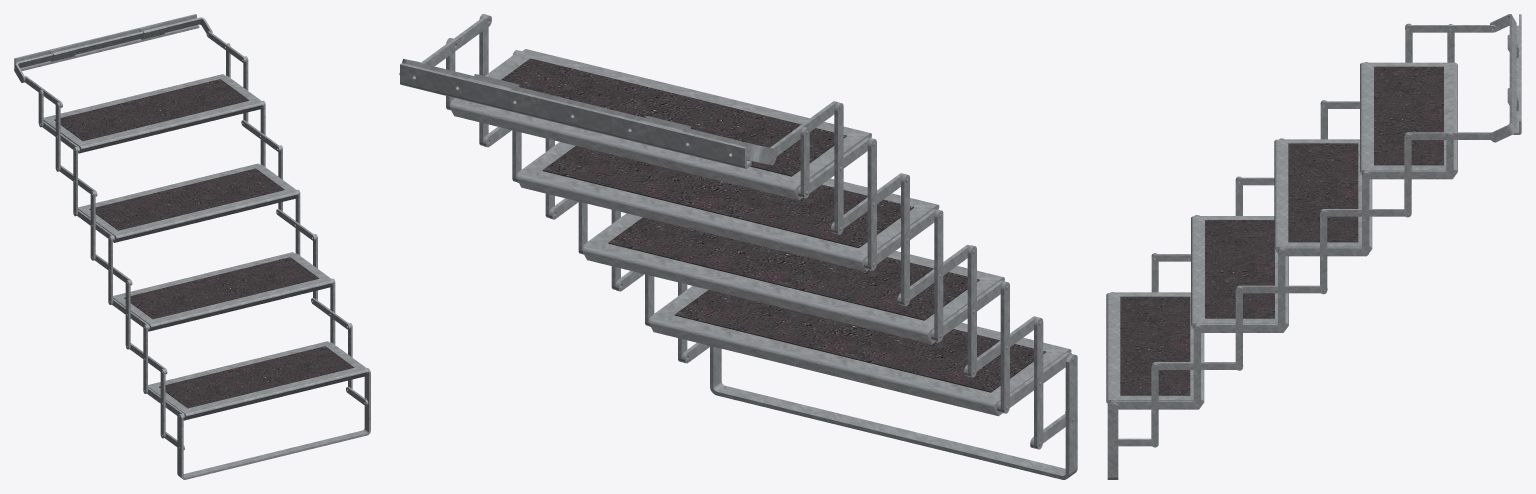
3 views of the same model, side by side, from view 1: azimuth 30°, elevation 25°; view 2: azimuth 150°, elevation 25°; view 3: azimuth 270°, elevation 25° (orthographic). The views are drawn at different scales.
Parts seen in each view (by area): view 1: Group20, Group19, Group12, Group16, Group11, Group3, Group13, Group15, Group41, Group25, Group39; view 2: Group16, Group12, Group19, Group20, Group3, Group11, Group13, Group41, Group25, Group37, Group42, Group39 (+11 smaller); view 3: Group20, Group19, Group12, Group16, Group13, Group11, Group8, Group38, Group24, Group46, Group30, Group32 (+11 smaller).
Boxes of the visible parts, left/top/right/bottom form: Group20: left=43, top=74, right=262, bottom=153; Group19: left=78, top=163, right=297, bottom=242; Group12: left=148, top=341, right=367, bottom=420; Group16: left=113, top=252, right=332, bottom=331; Group11: left=177, top=368, right=370, bottom=479; Group3: left=14, top=14, right=199, bottom=70; Group13: left=14, top=17, right=212, bottom=82; Group15: left=90, top=191, right=95, bottom=260; Group41: left=55, top=102, right=60, bottom=171; Group25: left=125, top=280, right=130, bottom=349; Group39: left=160, top=369, right=165, bottom=438; Group16: left=582, top=214, right=1004, bottom=344; Group12: left=649, top=286, right=1071, bottom=416; Group19: left=517, top=142, right=939, bottom=271; Group20: left=450, top=49, right=871, bottom=199; Group3: left=400, top=63, right=751, bottom=168; Group11: left=710, top=346, right=1077, bottom=479; Group13: left=399, top=59, right=776, bottom=165; Group41: left=834, top=102, right=843, bottom=234; Group25: left=967, top=245, right=976, bottom=377; Group37: left=934, top=209, right=943, bottom=341; Group42: left=867, top=138, right=876, bottom=270; Group39: left=1034, top=317, right=1043, bottom=449; Group20: left=1360, top=62, right=1457, bottom=179; Group19: left=1274, top=139, right=1372, bottom=256; Group12: left=1106, top=293, right=1204, bottom=409; Group16: left=1191, top=216, right=1288, bottom=332; Group13: left=1490, top=14, right=1516, bottom=142; Group11: left=1107, top=292, right=1118, bottom=479; Group8: left=1405, top=25, right=1496, bottom=32; Group38: left=1109, top=400, right=1198, bottom=408; Group24: left=1193, top=323, right=1282, bottom=331; Group46: left=1236, top=285, right=1327, bottom=293; Group30: left=1235, top=286, right=1242, bottom=370; Group32: left=1151, top=363, right=1158, bottom=447.
Bounding box in the file's own units: 25.12 × 37.46 × 39.33.
2 materials, 2 textured.
